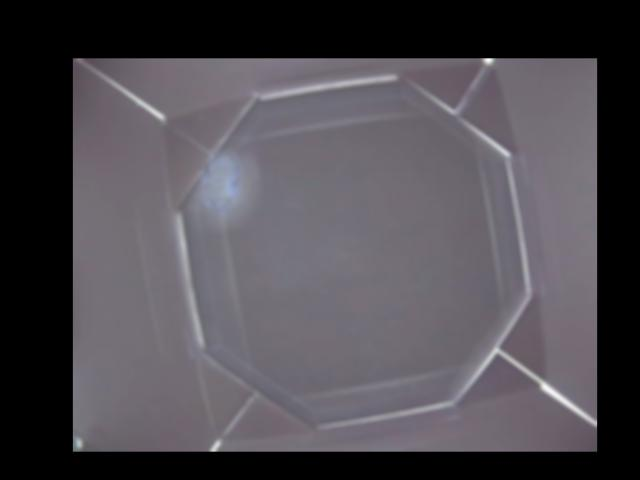Pebble: (203, 148, 242, 209)
